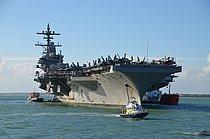MIL_Ship: (32, 19, 184, 106)
